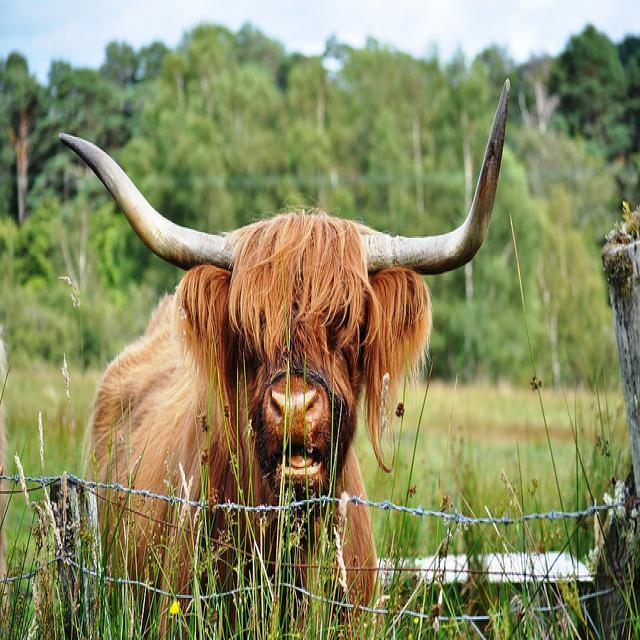cow: (53, 70, 513, 627)
